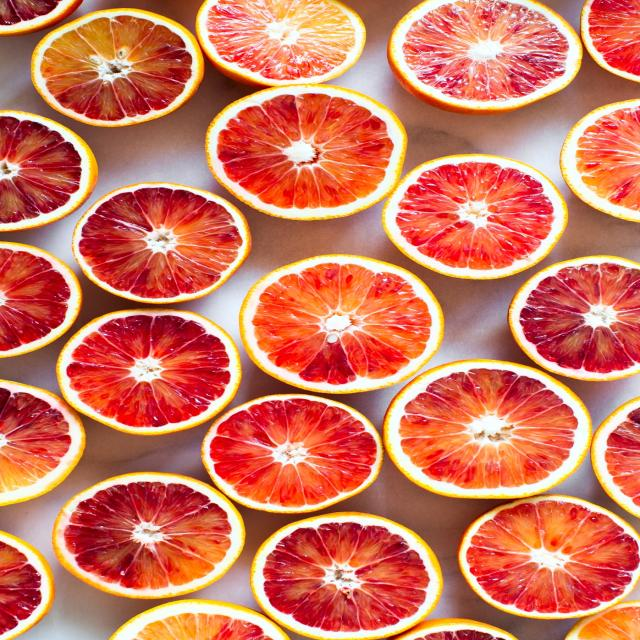apple: (63, 76, 390, 542), (378, 101, 622, 458)
